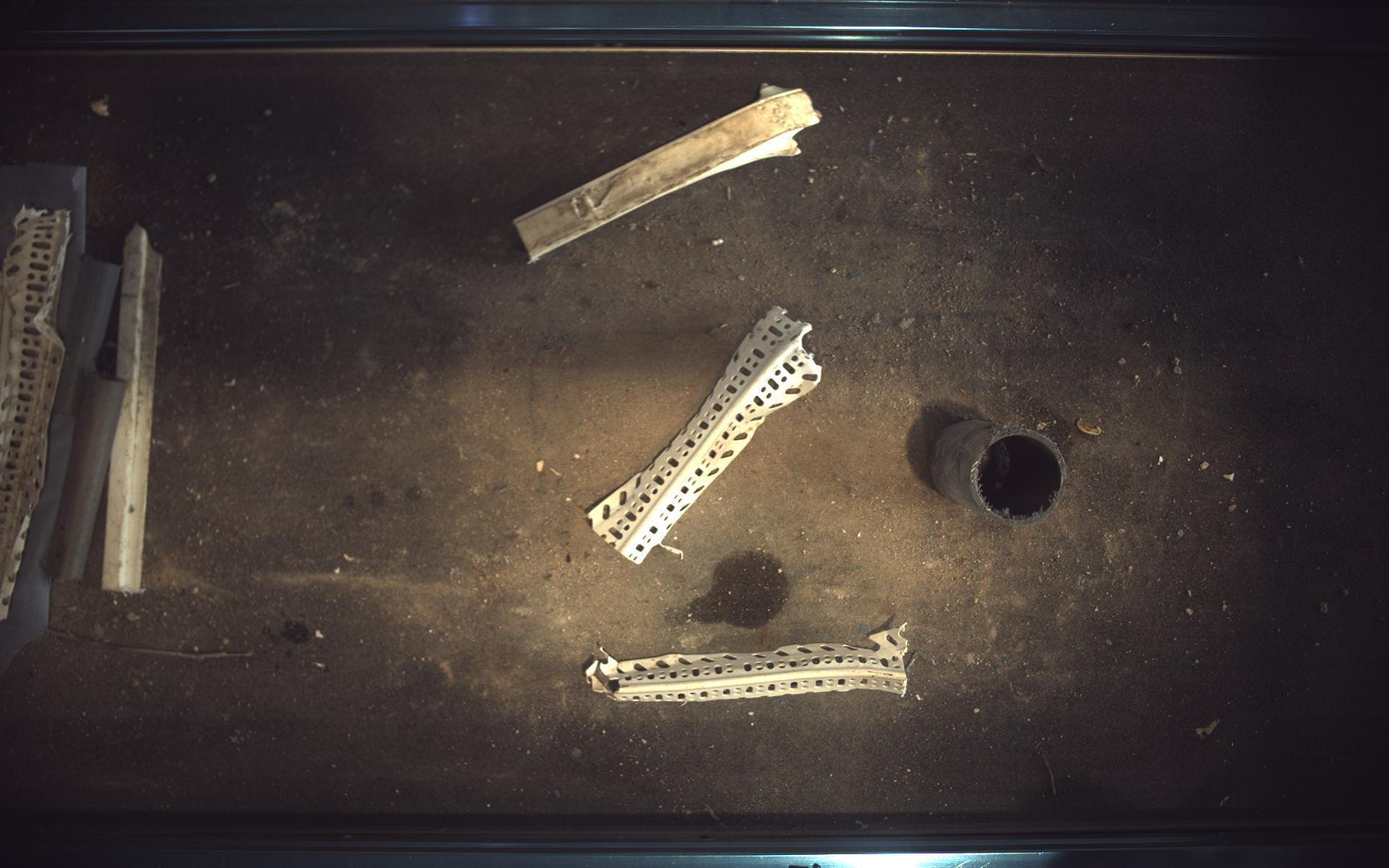pipes: (52, 373, 124, 582), (933, 420, 1070, 526), (51, 256, 119, 417)
plastic: (588, 306, 823, 564), (515, 85, 822, 260), (1, 206, 69, 621), (586, 624, 909, 703), (101, 224, 161, 594)
